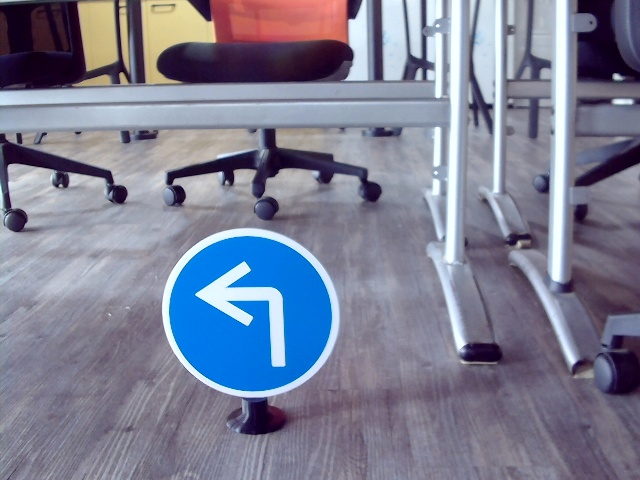turn_left: (190, 258, 303, 369)
